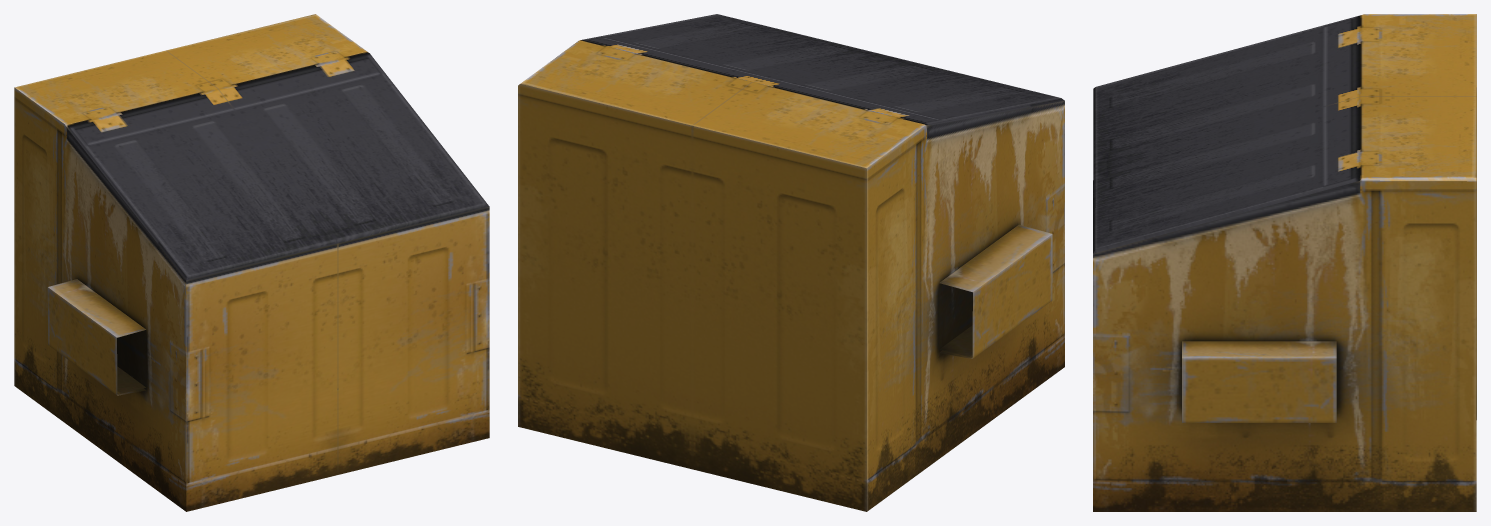
Rendered from dumbster.FBX.
3 views of the same model, side by side, from view 1: azimuth 30°, elevation 25°; view 2: azimuth 150°, elevation 25°; view 3: azimuth 270°, elevation 25° (orthographic). The views are drawn at different scales.
Parts seen in each view (by area): view 1: prop_dumbster_LOD0; view 2: prop_dumbster_LOD0; view 3: prop_dumbster_LOD0.
Boxes of the visible parts, x1=… form: prop_dumbster_LOD0: x1=14, y1=14, x2=489, y2=511; prop_dumbster_LOD0: x1=518, y1=14, x2=1064, y2=511; prop_dumbster_LOD0: x1=1093, y1=14, x2=1476, y2=511.
Size of what is drawn, in the model's own units: 2.04 by 1.61 by 1.68.
